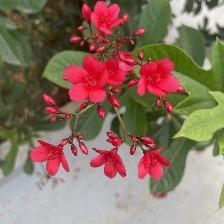jatropha: (64, 57, 115, 108), (134, 55, 184, 100), (31, 139, 70, 180), (87, 1, 131, 37), (89, 148, 128, 180), (138, 148, 171, 180)
